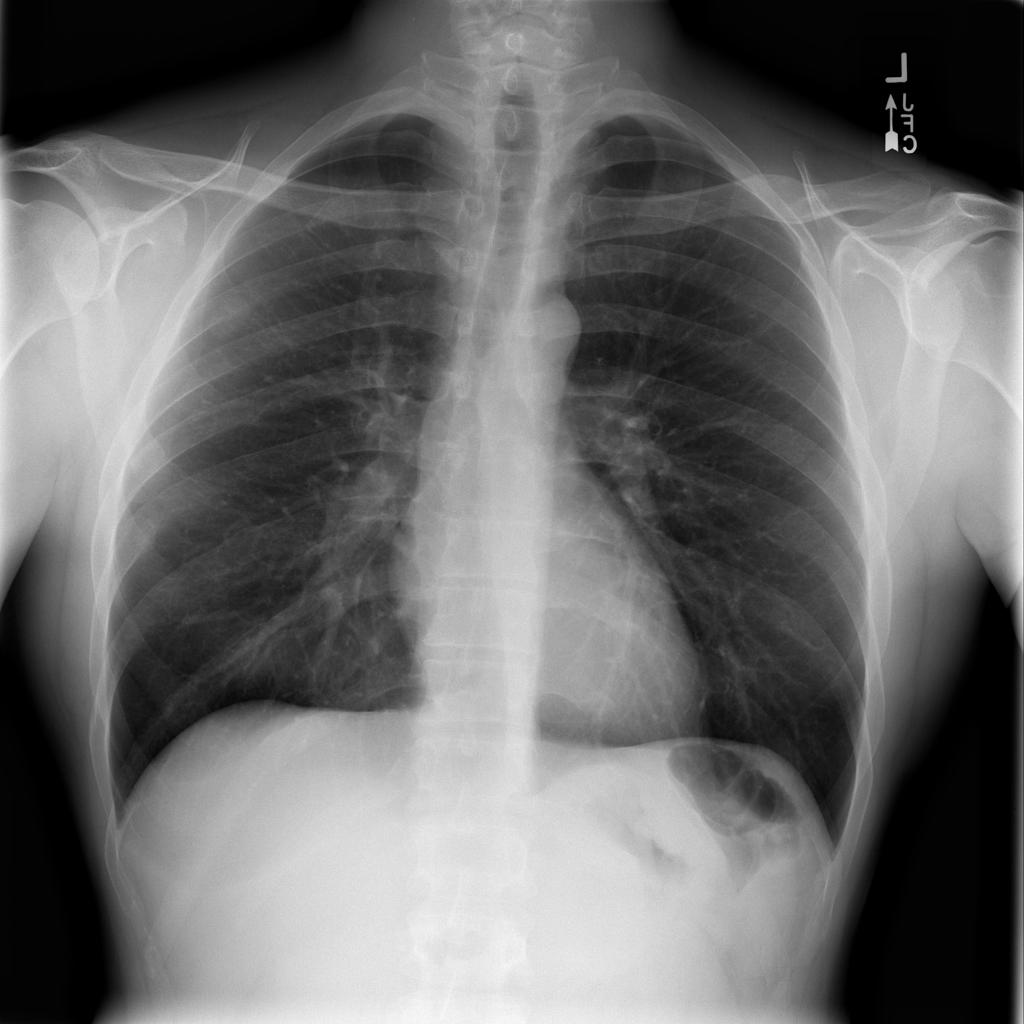nodule: (187, 284, 265, 351)
